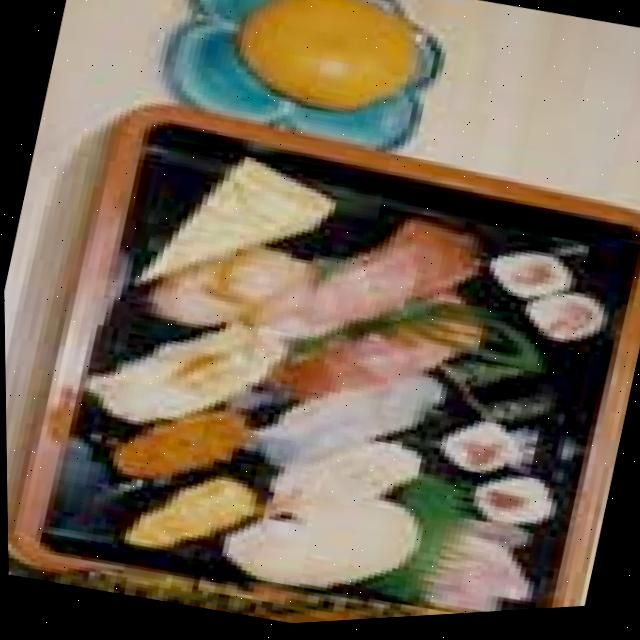寿司卷物: (43, 142, 624, 638)
